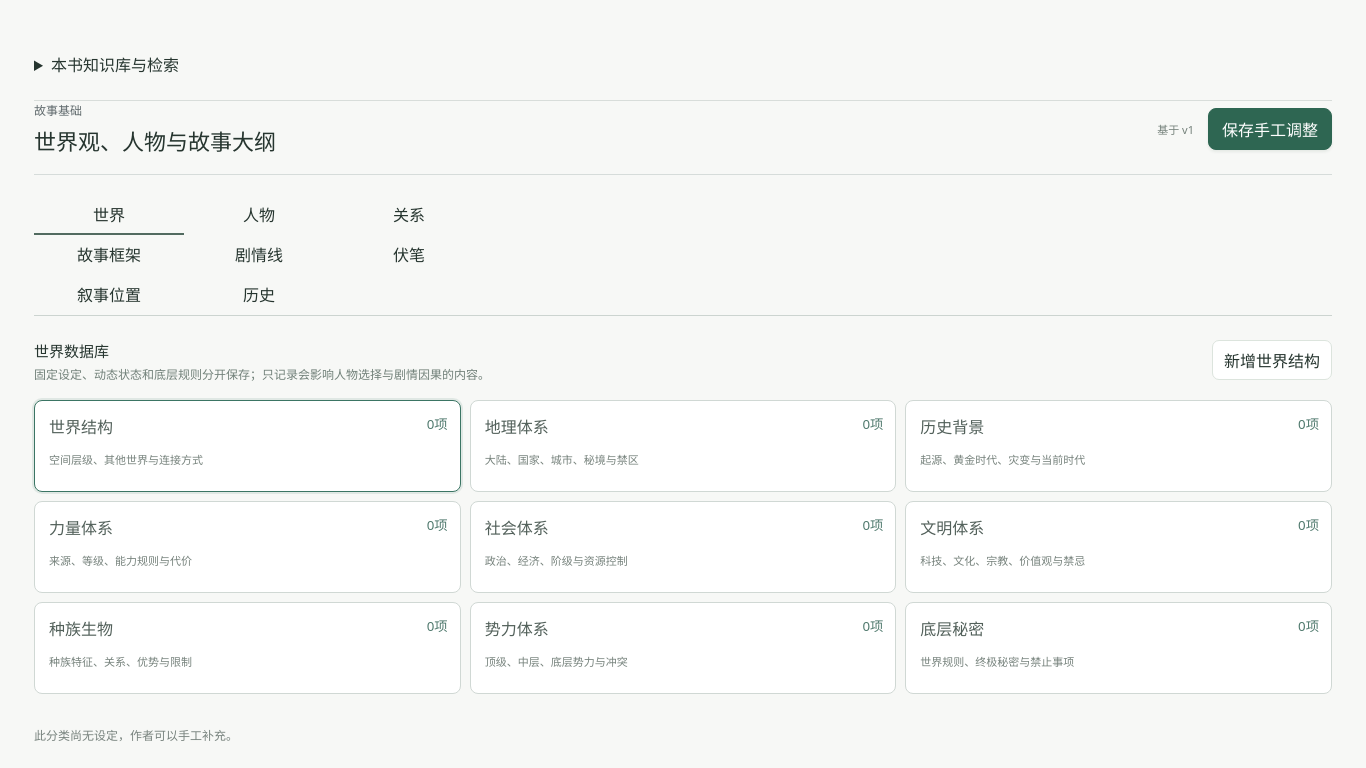
Test: BlueprintWorkspace manual editing › loads and mounts only the selected blueprint partition
Expected: the heading "世界数据库" is shown, [34, 341, 109, 361]
Expected: the text "长期剧情线" is not shown
Click the tab "剧情线". click: (259, 255)
box: [184, 235, 334, 275]
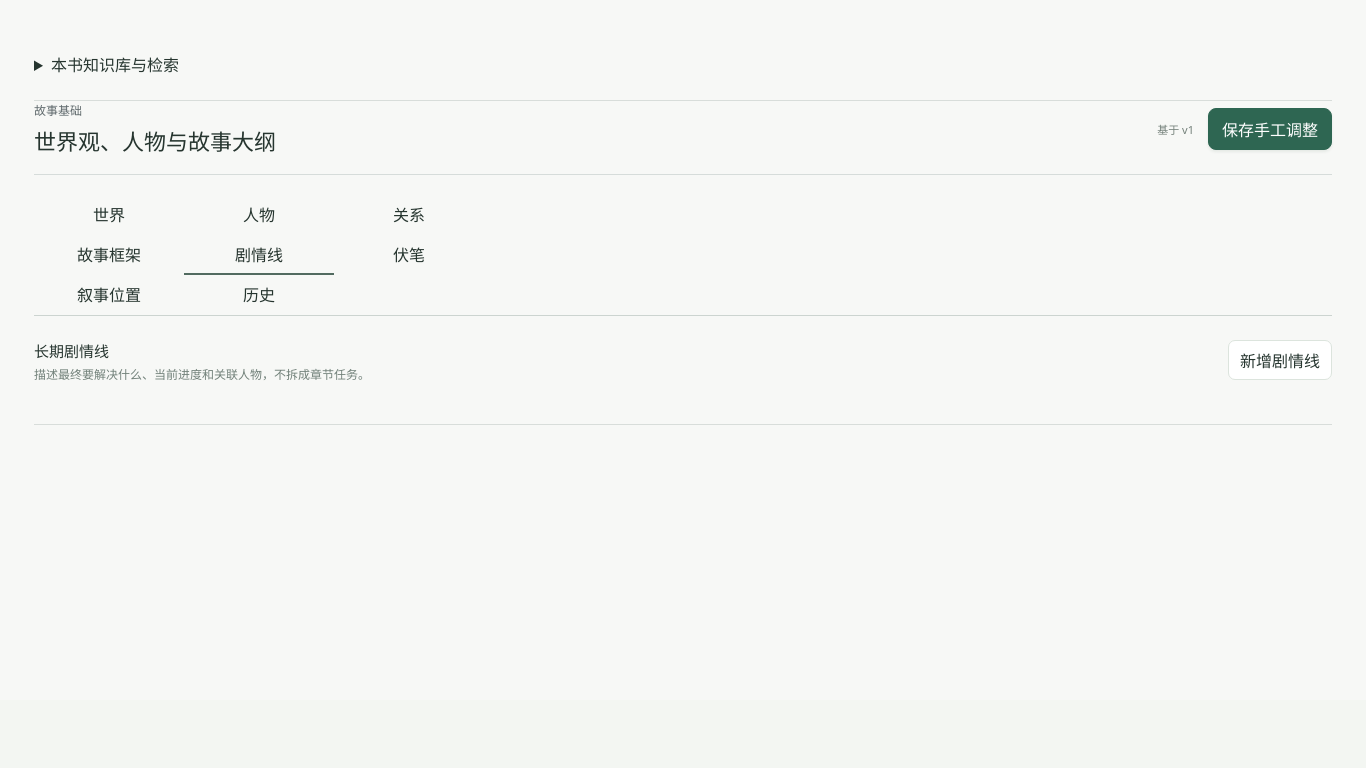
Now the heading "长期剧情线" is shown, box [34, 341, 109, 361]
Now the heading "世界数据库" is gone
